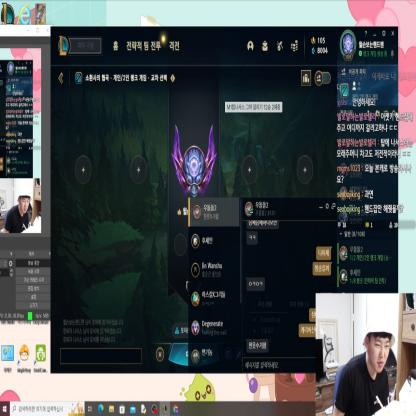streamer: (333, 314, 396, 416)
